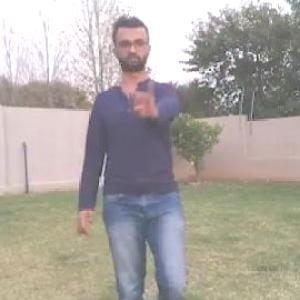takeoff-hand: (122, 66, 167, 126)
